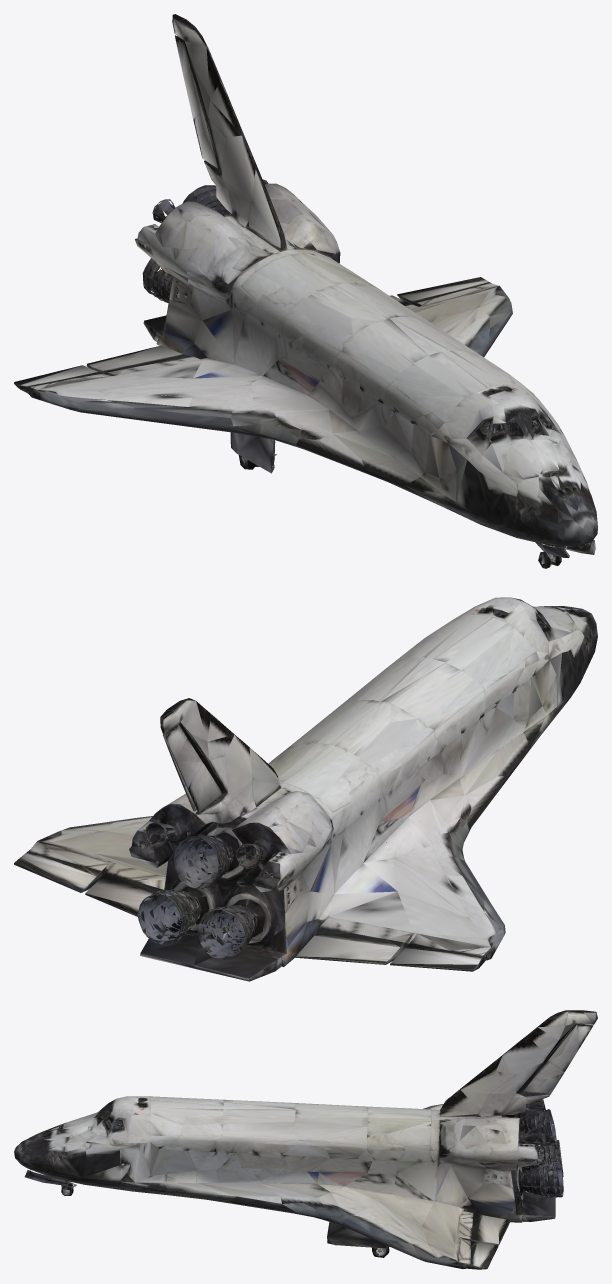
Rendered from SShuttle_Exterior-Medium_resolution.obj.
3 views of the same model, one above another, from view 1: azimuth 30°, elevation 25°; view 2: azimuth 150°, elevation 25°; view 3: azimuth 270°, elevation 25° (orthographic). The views are drawn at different scales.
Visible parts, largest first — view 1: SShuttle_Exterior; view 2: SShuttle_Exterior; view 3: SShuttle_Exterior.
Part boxes in pixels (<box>): SShuttle_Exterior: <box>14,14,597,568</box>; SShuttle_Exterior: <box>14,597,597,981</box>; SShuttle_Exterior: <box>14,1010,597,1269</box>.
Bounding box in the file's own units: 23.82 × 15.8 × 37.59.
